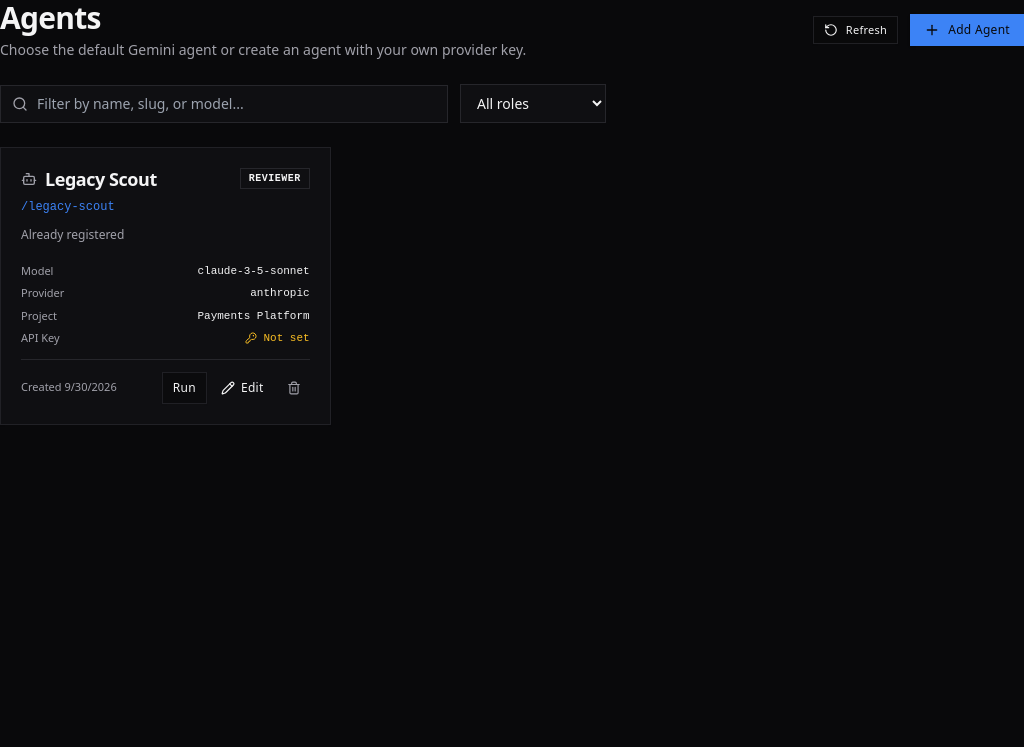
Test: Add Agent (bring your own key) › requires an API key before creating an agent
The image size is (1024, 747).
Expected: the text "Legacy Scout" is shown, [45, 168, 157, 190]
Click the button "Add Agent" at (967, 30), box [910, 14, 1023, 46]
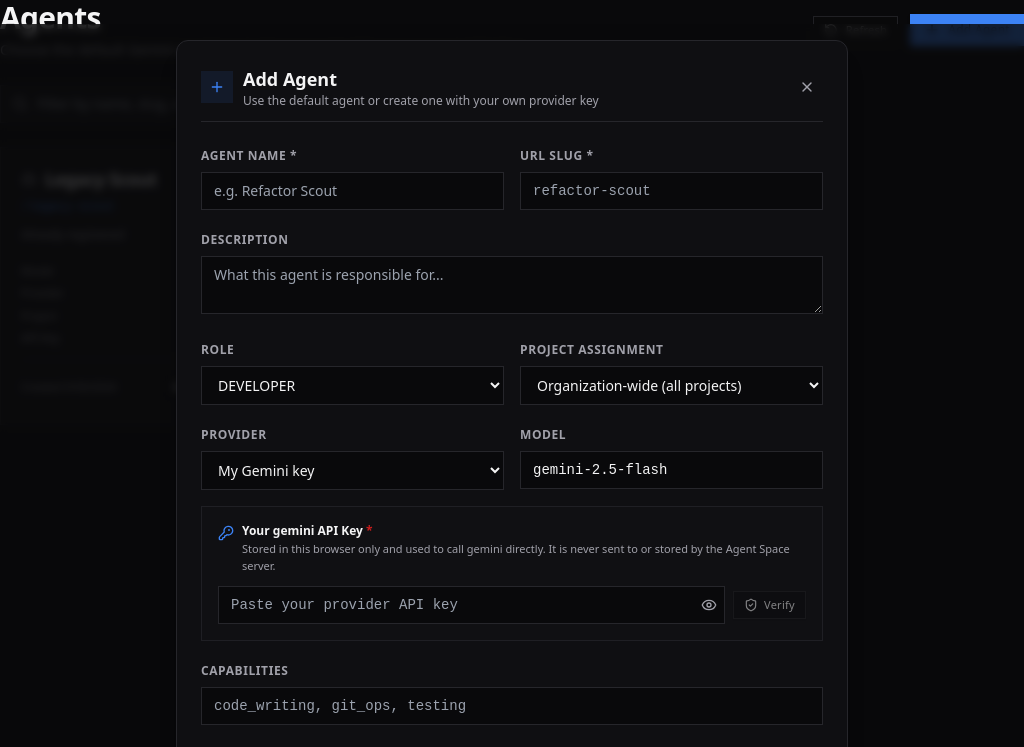
Type "Keyless" into the field labelled "Agent Name *" at (352, 191), box [201, 172, 504, 210]
(page scrolled)
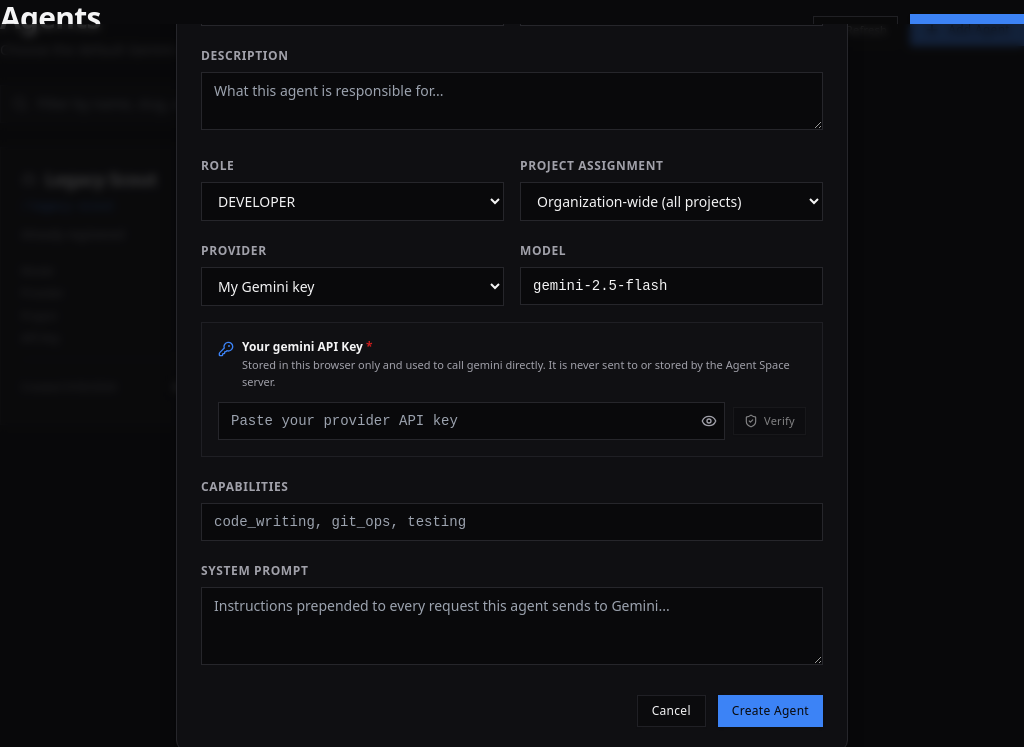
Click the button "Create Agent" at (770, 711), box [718, 695, 823, 727]
(page scrolled)
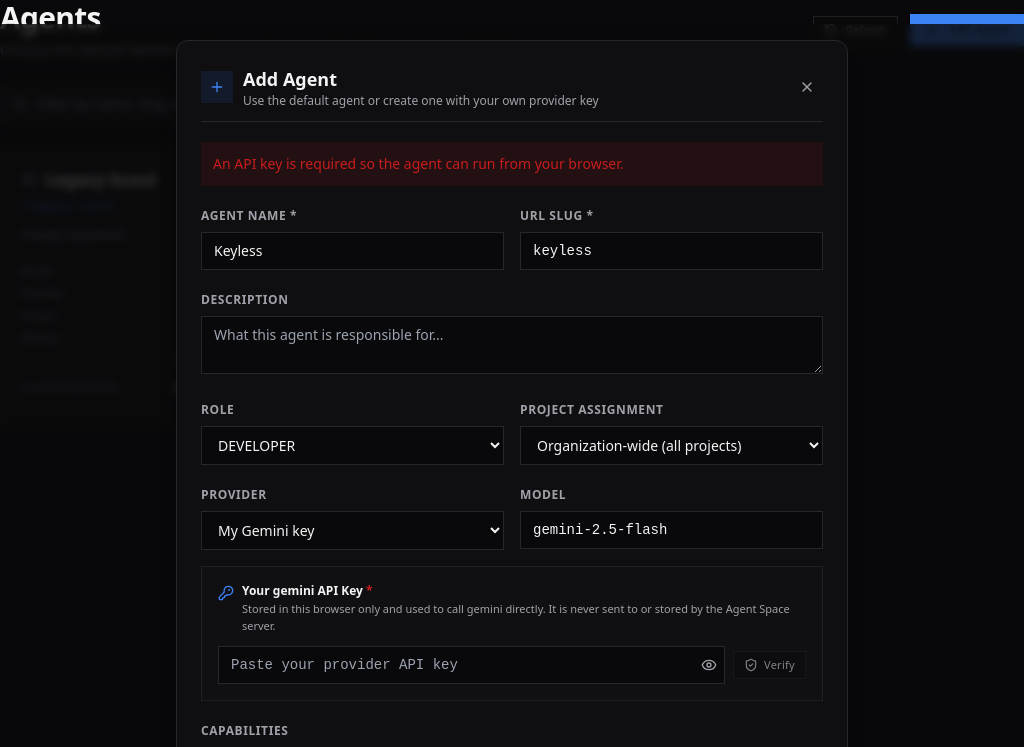
Expected: the text "An API key is required so the agent can run from your browser" is shown, [213, 154, 624, 173]
